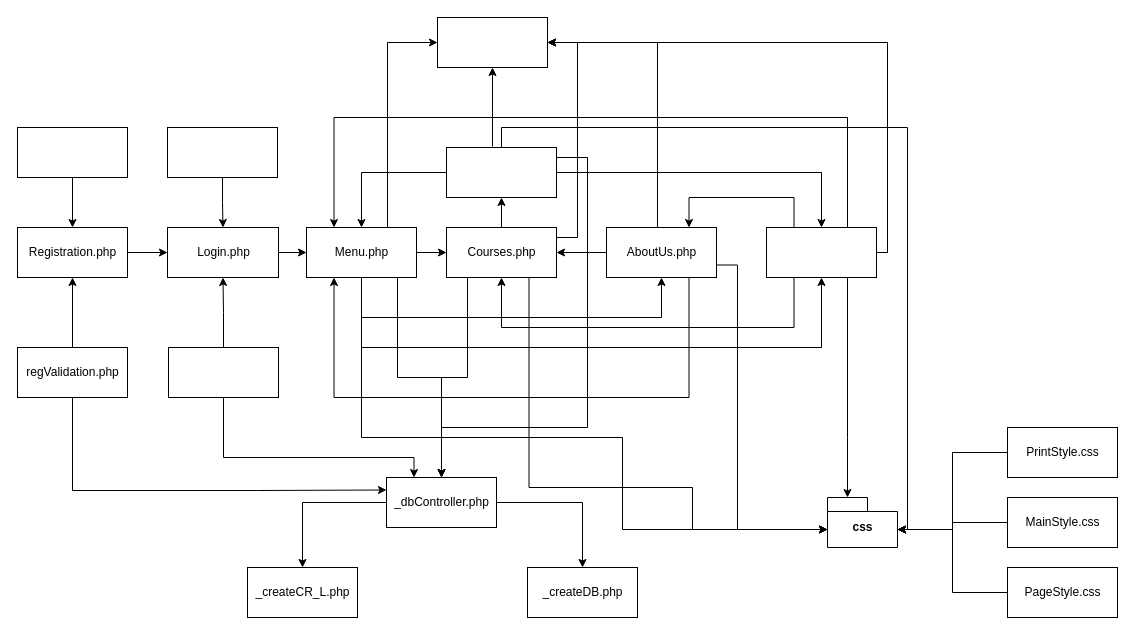
The diagram is 1135 pixels wide and 635 high, and some of its shapes have lost their labels. Here are the shapes that lost their labels. From the top down, the centre of each, then its label:
(492,42): logout.php
(72,152): RegistrationScript.js
(222,152): LoginScript.js
(501,172): CoursesVideo.php
(821,252): ContactInfo.php
(223,372): logValidation.php
